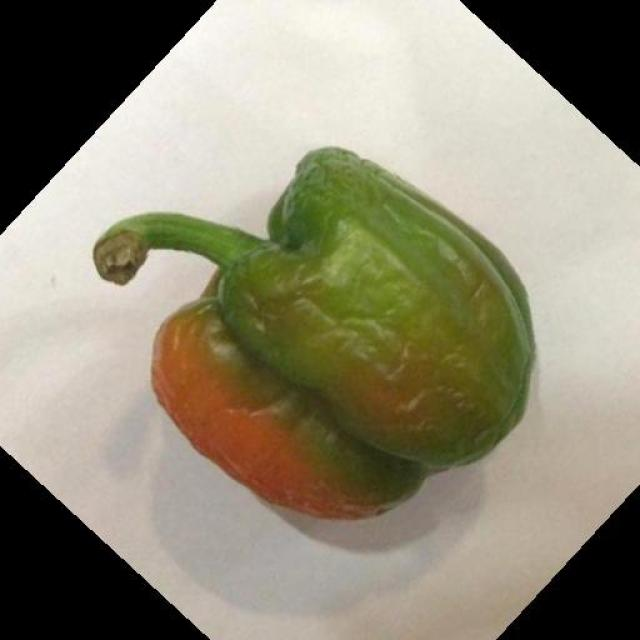Stale_Capsicum: (116, 142, 519, 527)
